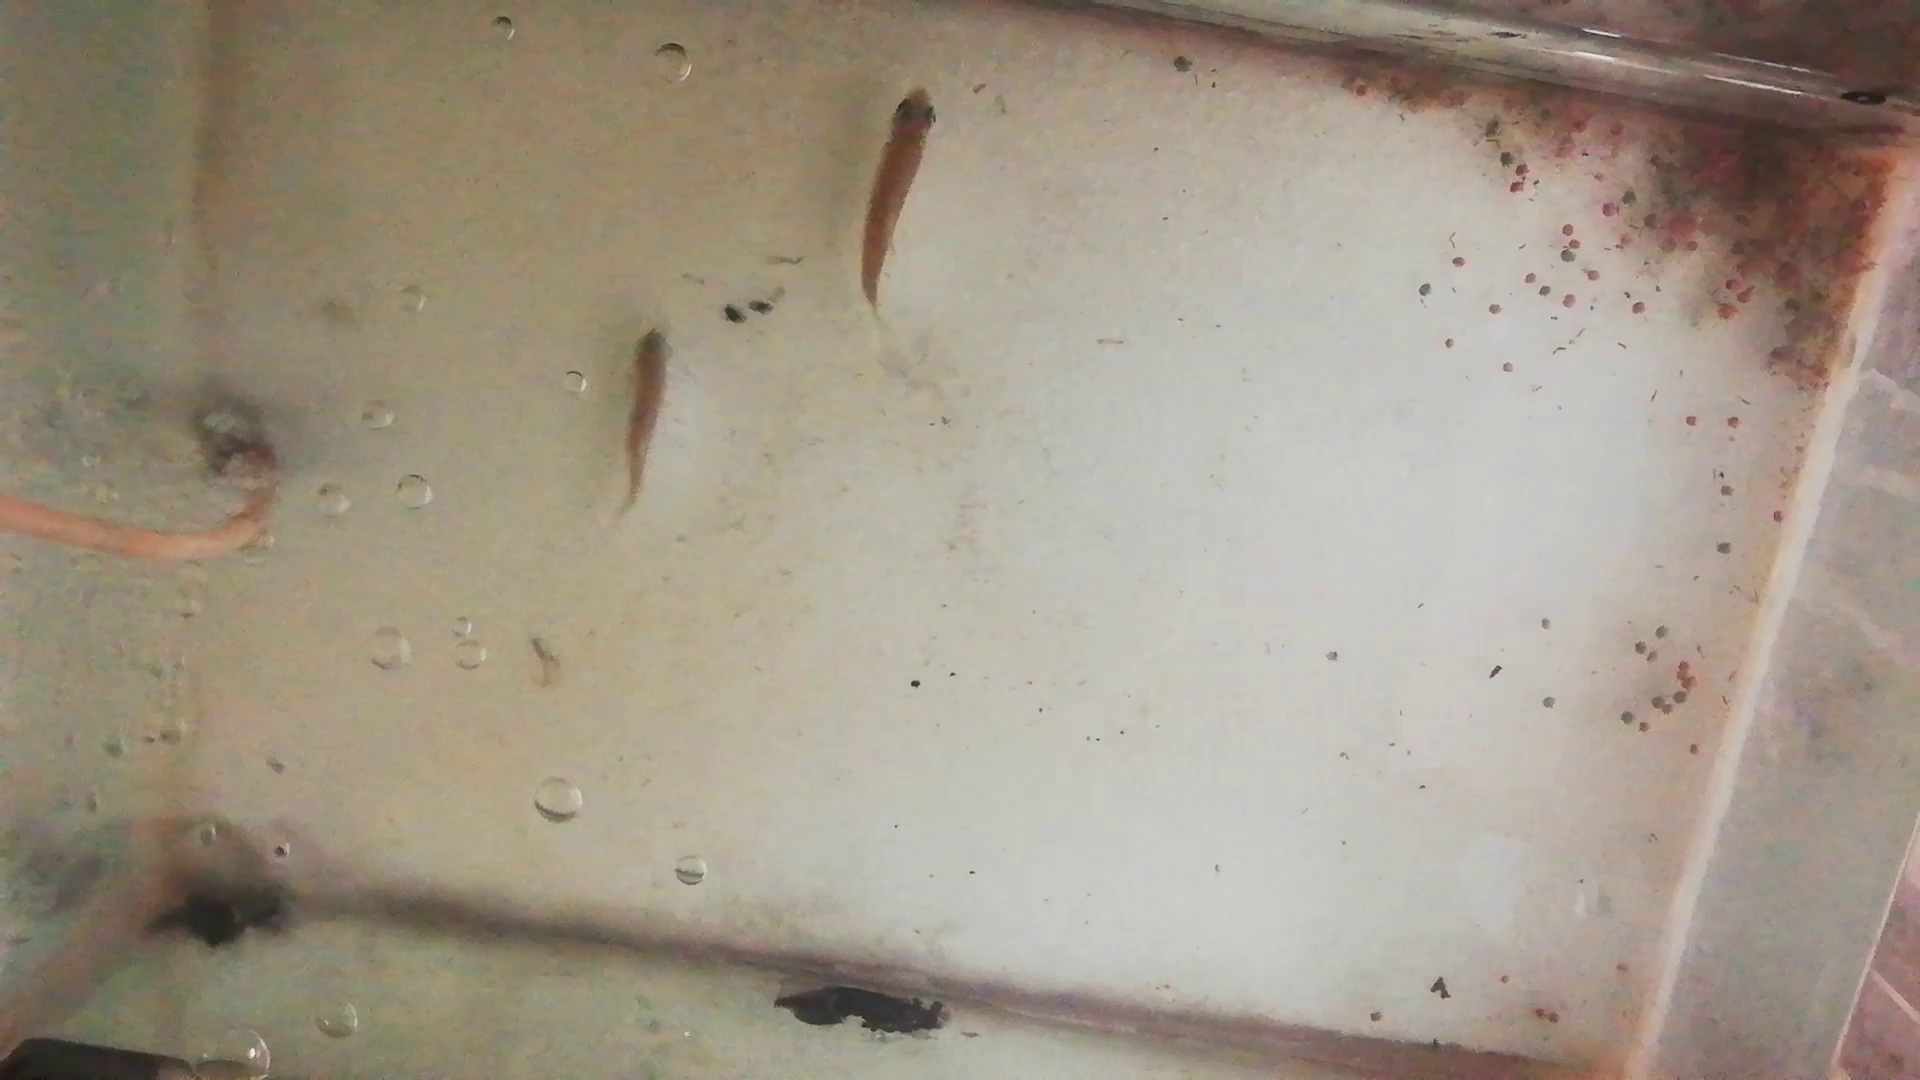fish: (855, 80, 934, 311), (620, 330, 676, 501)
